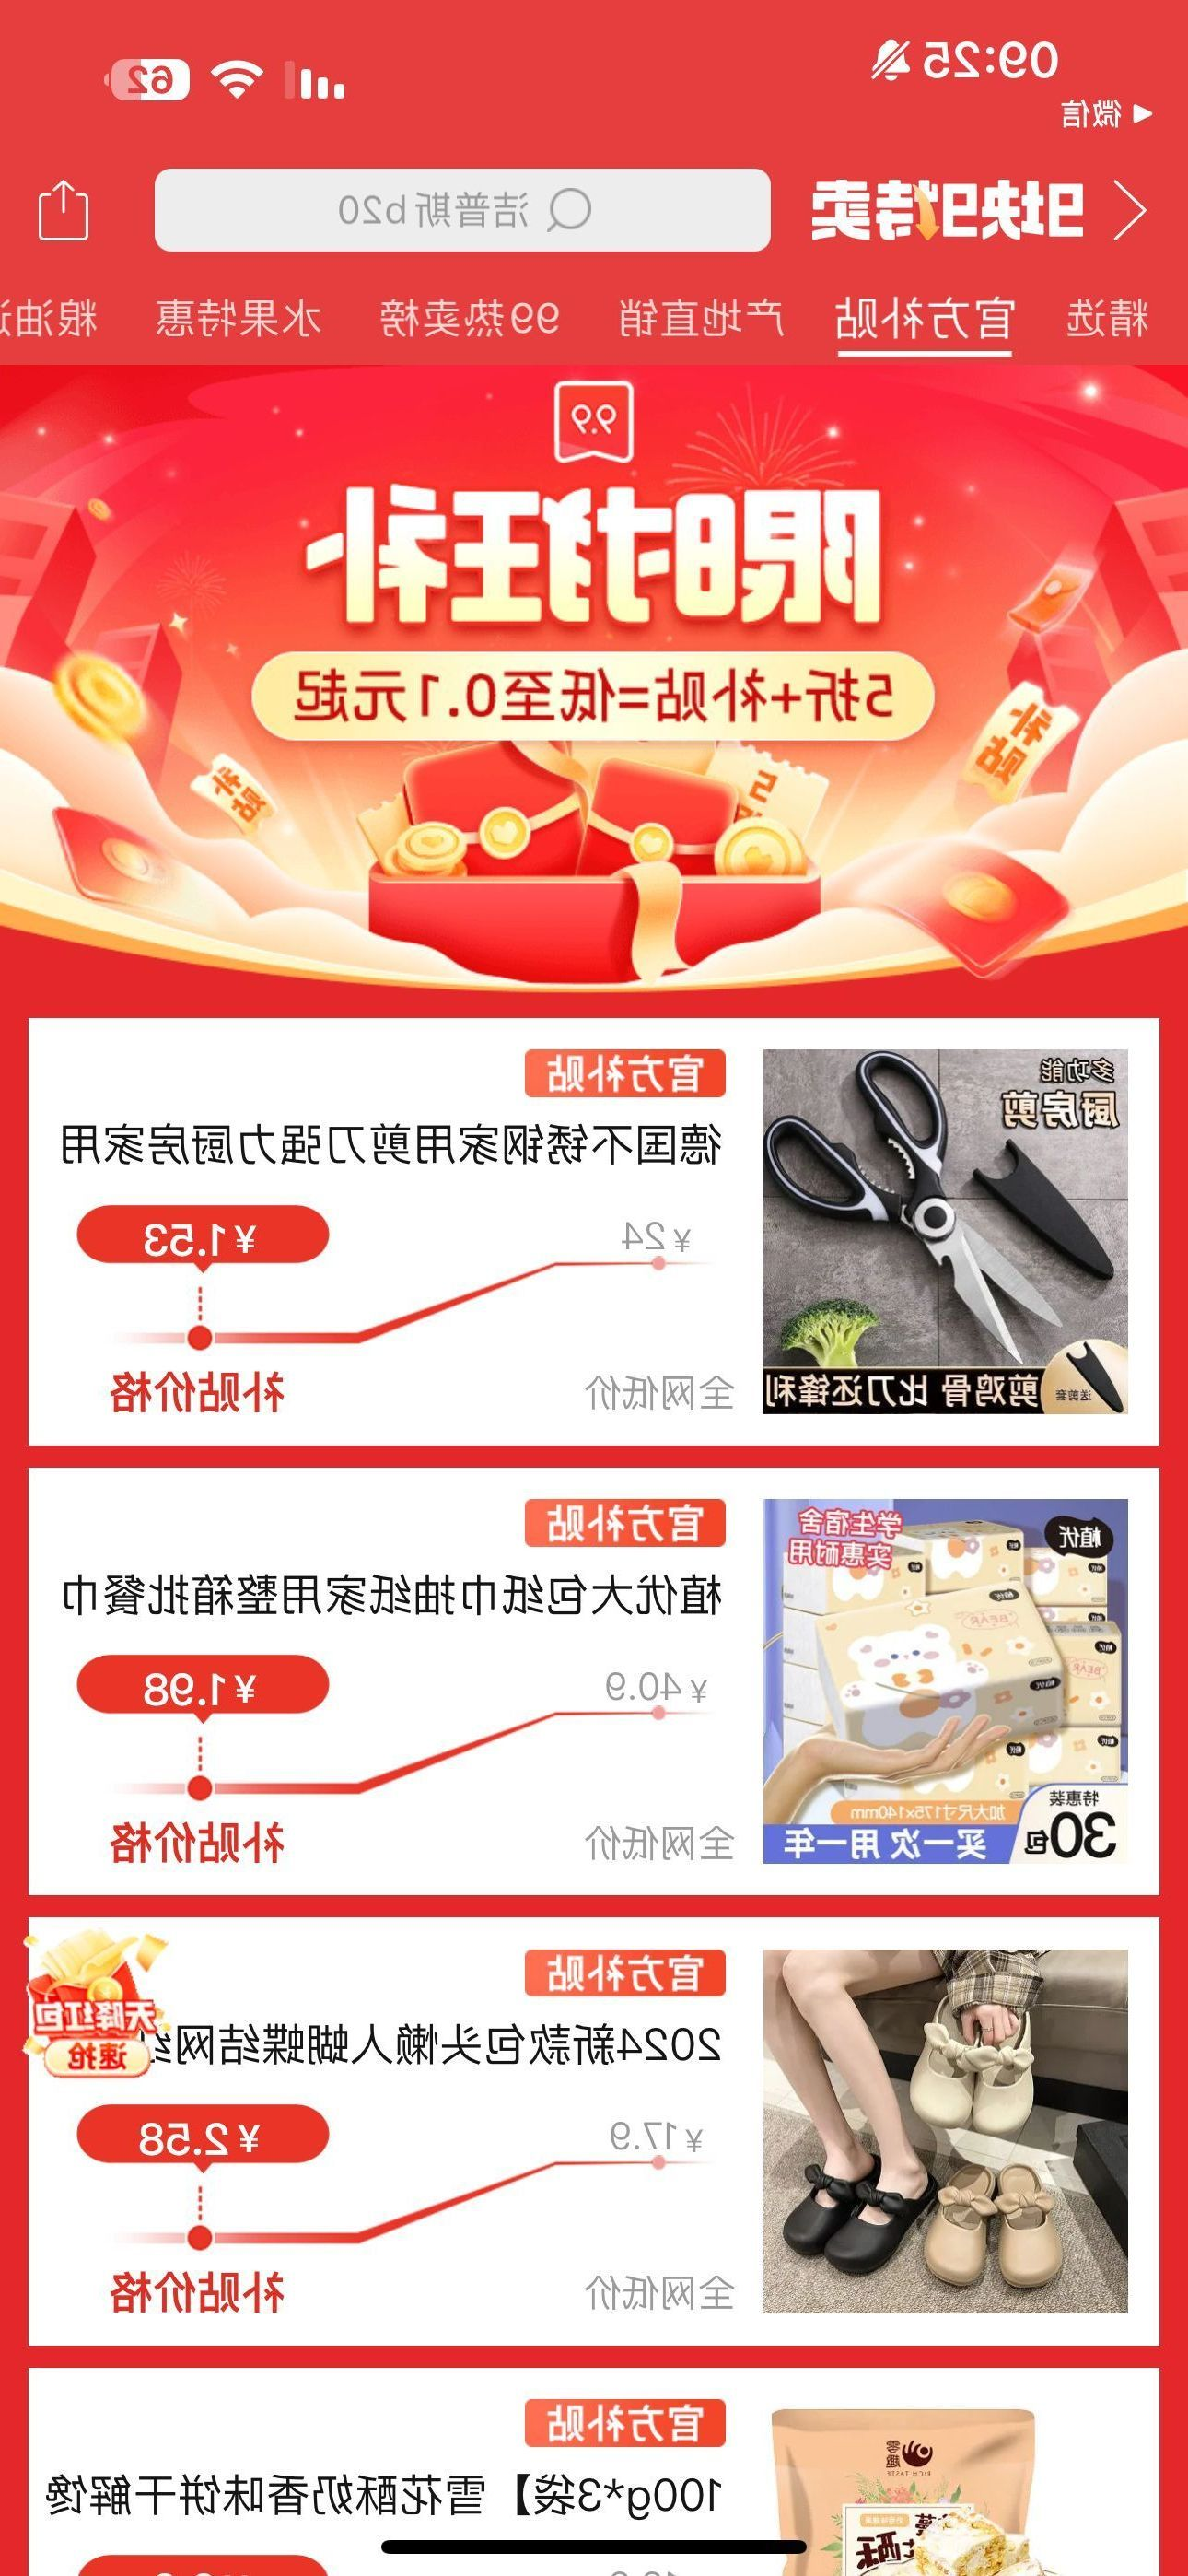item: (10, 1007, 1185, 1465), (5, 1459, 1188, 1912), (7, 1901, 1188, 2348)
op_bar: (2, 158, 1188, 278)
